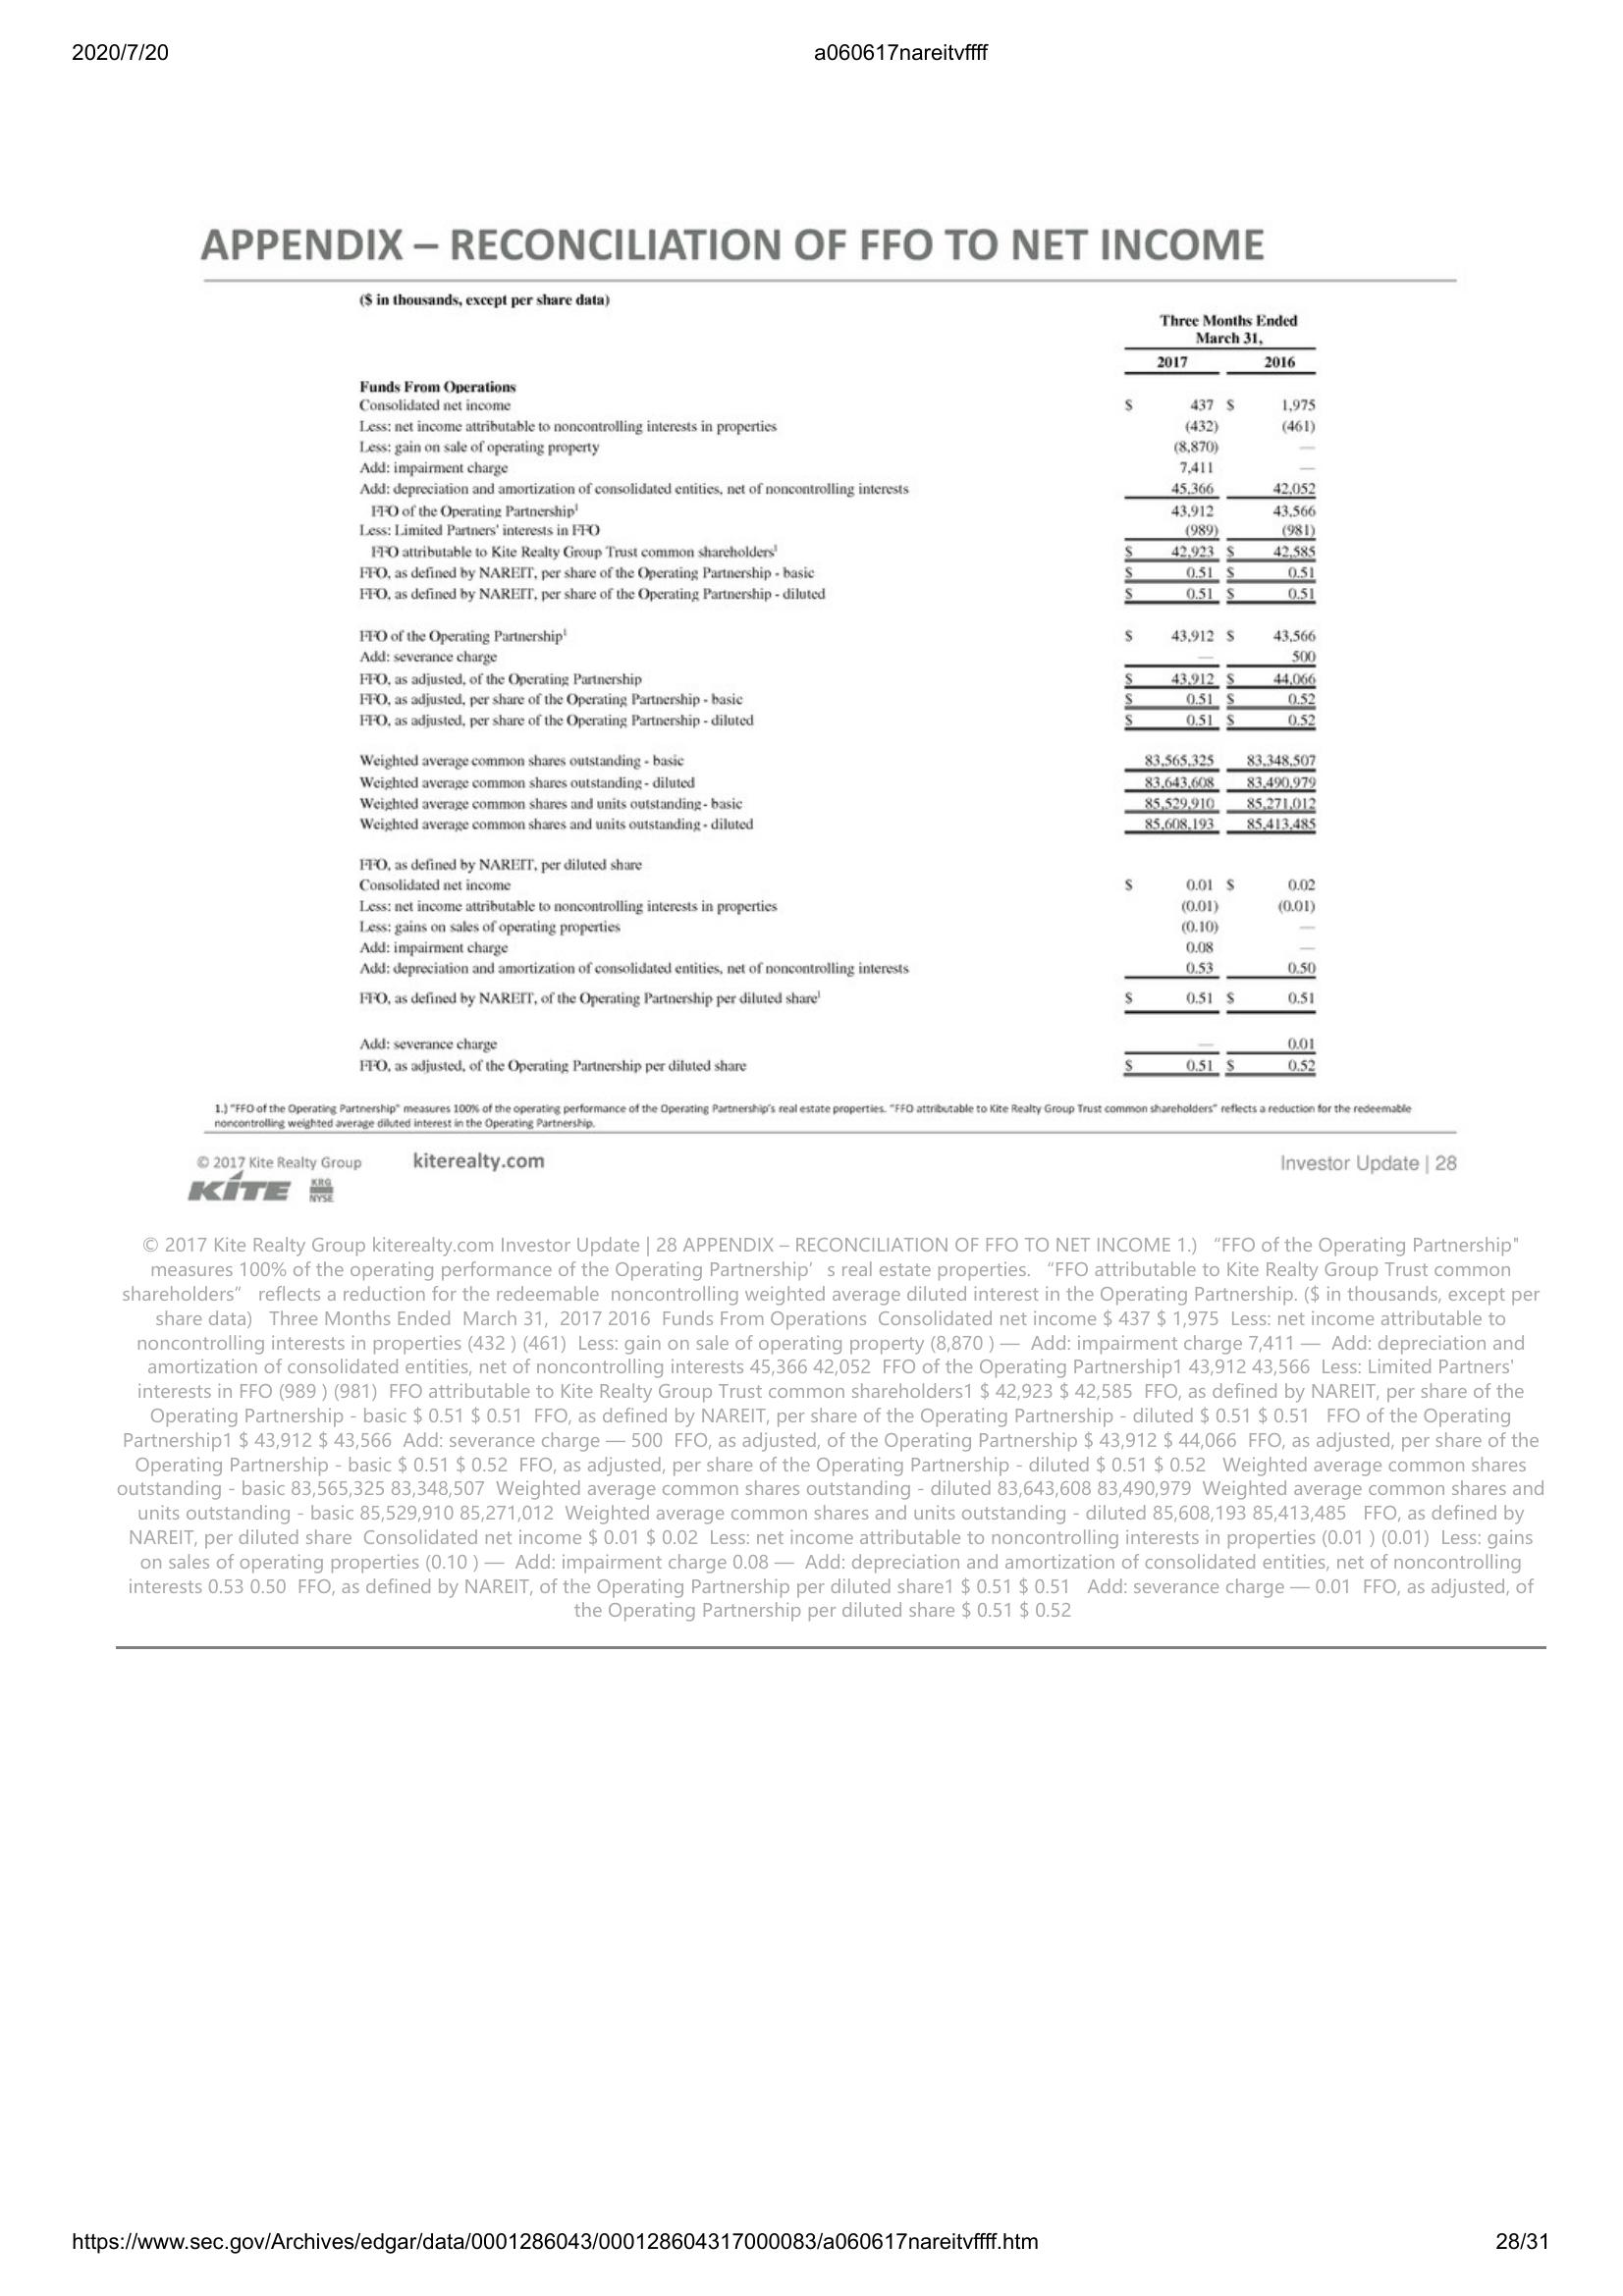table: (339, 291, 1328, 1090)
